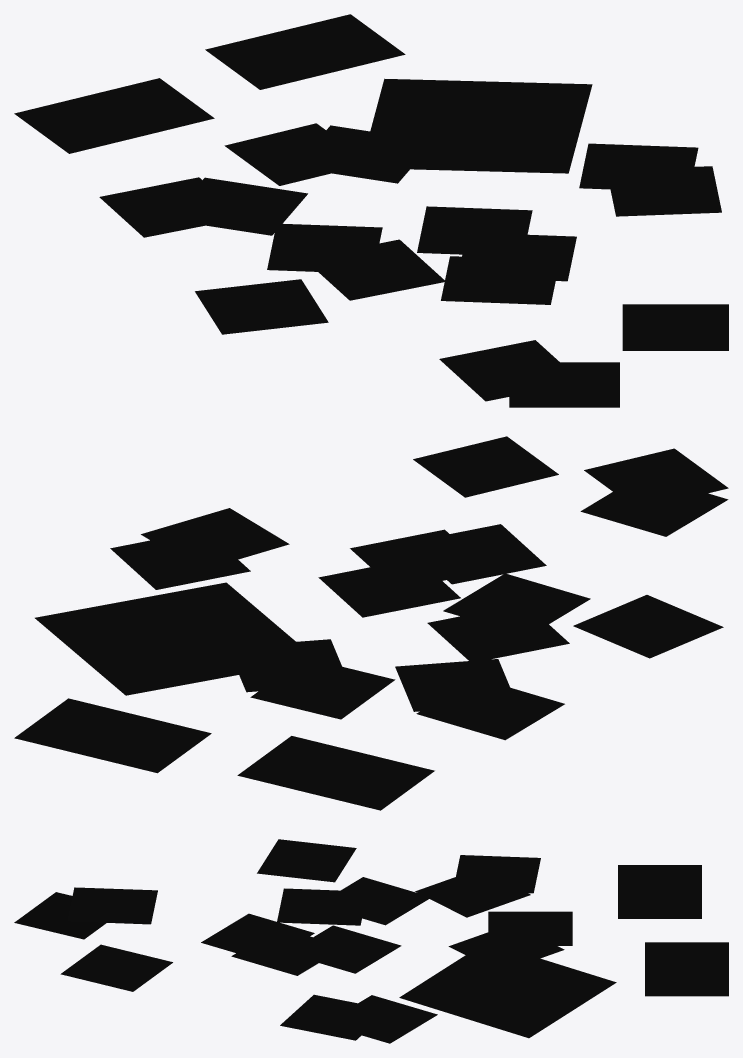
Rendered from cpark_muck_lan2.obj.
3 renders of one model, top to bottom at view 1: azimuth 30°, elevation 25°; view 2: azimuth 150°, elevation 25°; view 3: azimuth 270°, elevation 25°, orthographic. The views are drawn at different scales.
Parts seen in each view (by area): view 1: cpark_muck_lan2; view 2: cpark_muck_lan2; view 3: cpark_muck_lan2.
Boxes of the visible parts, box(x1,y1,x2,y2) form: cpark_muck_lan2: box(14, 14, 728, 407); cpark_muck_lan2: box(14, 436, 728, 810); cpark_muck_lan2: box(14, 839, 728, 1043).
Size of the model in its own units: 107 by 0.2095 by 158.
1 material, 1 textured.
